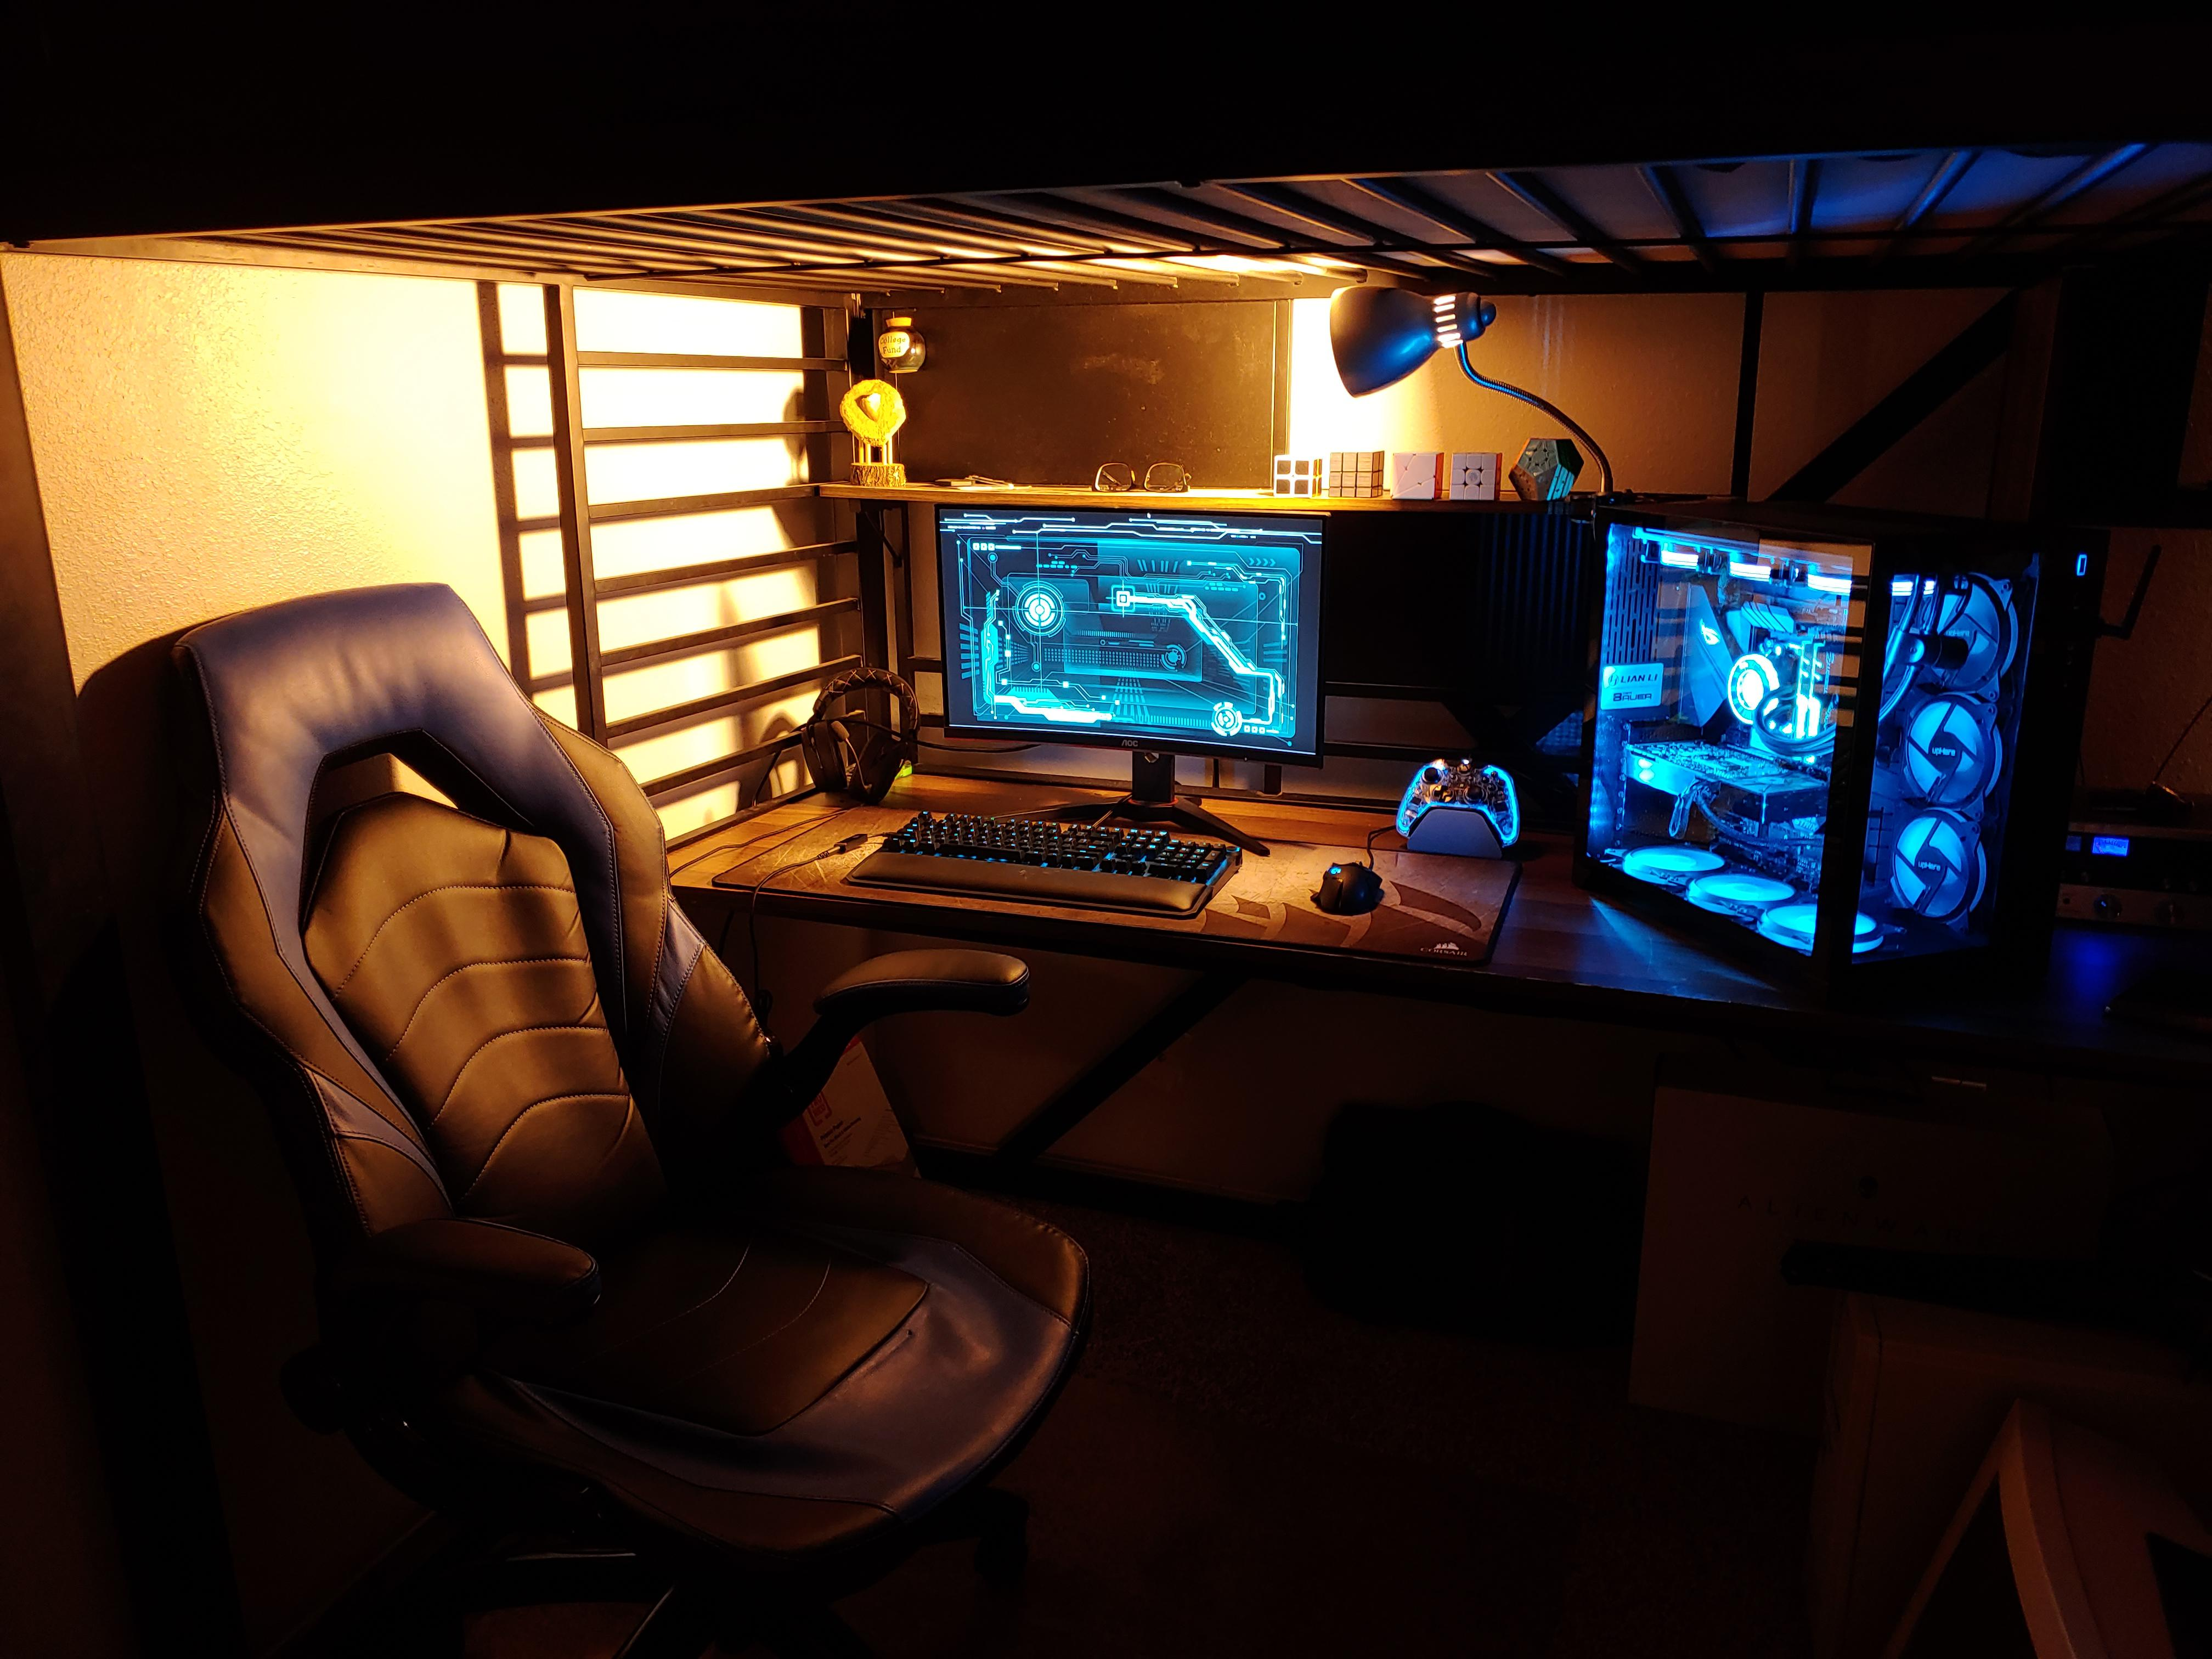Chair (Gaming): (117, 547, 1078, 1649)
Decoration (Generic): (841, 375, 909, 486), (1510, 434, 1578, 500), (873, 314, 927, 371)
Decoration (Rubric's Cube): (1388, 450, 1446, 500), (1449, 450, 1501, 502), (1327, 450, 1383, 498), (1270, 455, 1322, 498)
Desk (Generic): (671, 741, 2212, 1087)
Desktop (Generic): (1564, 491, 2048, 1014)
Gaming Controller: (1392, 746, 1533, 863)
Headphones (with Microphone): (801, 652, 927, 803)
Keyboard (Gaming): (869, 803, 1238, 920)
Lamp (Desk): (1329, 275, 1688, 528)
Monitor (Landscape): (934, 507, 1327, 772)
Mouse (Gaming): (1312, 845, 1395, 931)
Mousepad (Gaming): (728, 786, 1493, 925)
